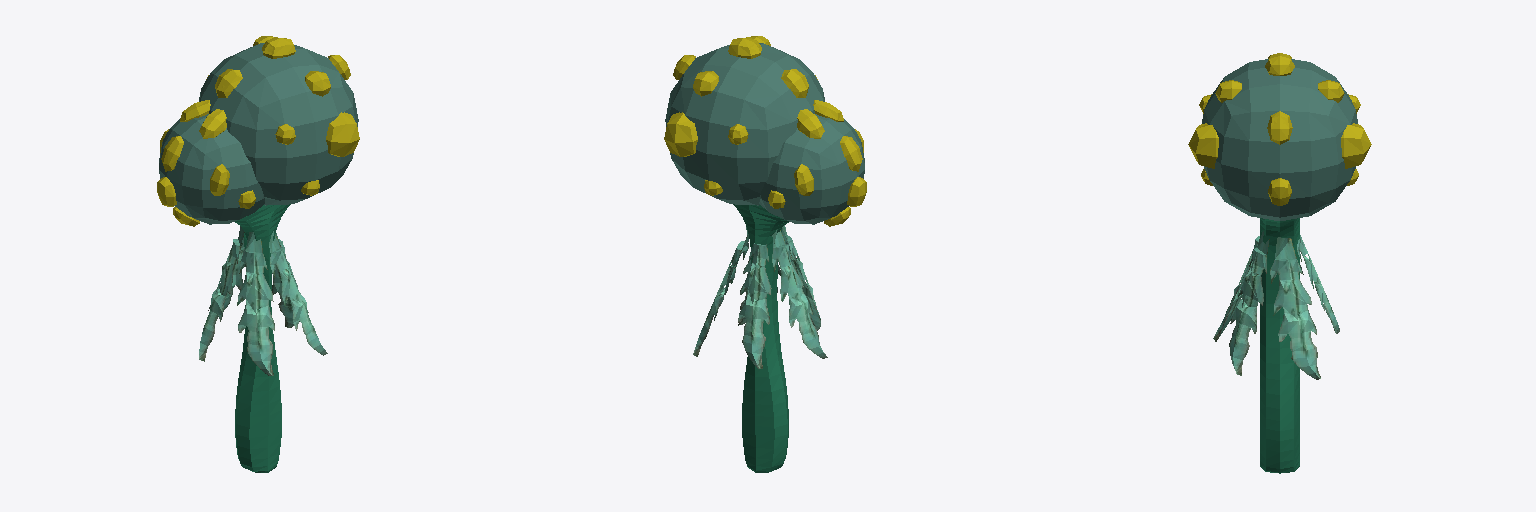
3 renders of one model, left to right at view 1: azimuth 30°, elevation 25°; view 2: azimuth 150°, elevation 25°; view 3: azimuth 270°, elevation 25°, orthographic.
Parts seen in each view (by area): view 1: Cube.001, Plane, Cube.003, Cube.002, Cube; view 2: Cube.001, Cube, Cube.003, Plane, Cube.002; view 3: Cube.001, Cube, Plane, Cube.003.
Part boxes in pixels (bbox=[...]): Cube.001: bbox=[199, 43, 358, 205]; Plane: bbox=[199, 226, 327, 375]; Cube.003: bbox=[157, 36, 359, 226]; Cube.002: bbox=[159, 114, 264, 224]; Cube: bbox=[235, 204, 290, 472]; Cube.001: bbox=[665, 43, 824, 205]; Cube: bbox=[733, 204, 788, 472]; Cube.003: bbox=[664, 36, 866, 226]; Plane: bbox=[693, 225, 827, 368]; Cube.002: bbox=[759, 114, 864, 224]; Cube.001: bbox=[1202, 59, 1357, 220]; Cube: bbox=[1260, 218, 1299, 473]; Plane: bbox=[1213, 231, 1339, 379]; Cube.003: bbox=[1188, 53, 1371, 205].
Size of the model in its own units: 5.78 by 12.01 by 4.72.
Materials: 5 (4 with a texture image).